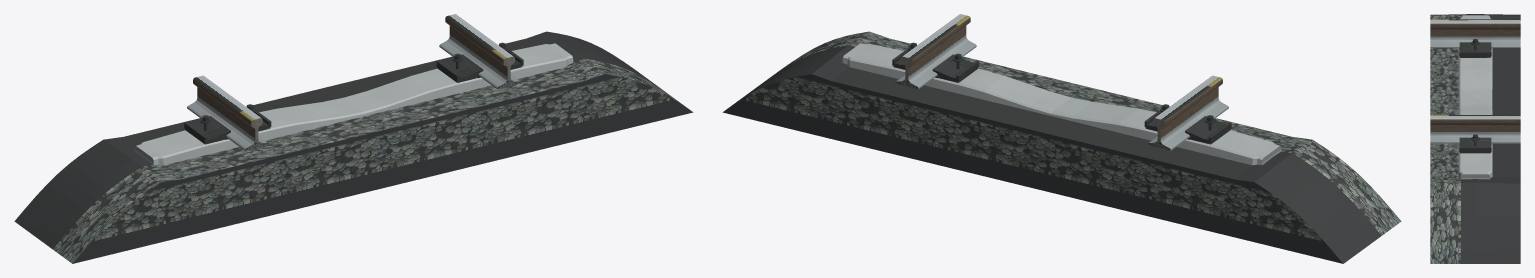
The model's file is rail_mid.obj.
3 renders of one model, left to right at view 1: azimuth 30°, elevation 25°; view 2: azimuth 150°, elevation 25°; view 3: azimuth 270°, elevation 25°, orthographic. The views are drawn at different scales.
Visible parts, largest first — view 1: ballast, sleeper, rail_left, rail_right, fastener_left, fastener_right; view 2: ballast, sleeper, rail_left, rail_right, fastener_left, fastener_right; view 3: ballast, sleeper, rail_left, rail_right, fastener_right, fastener_left.
Boxes of the visible parts, x1,y1,x2,y2 form: ballast: [14, 31, 693, 263]; sleeper: [134, 43, 573, 165]; rail_left: [187, 75, 266, 150]; rail_right: [439, 14, 519, 88]; fastener_left: [184, 104, 271, 144]; fastener_right: [436, 42, 523, 82]; ballast: [722, 31, 1401, 263]; sleeper: [842, 43, 1281, 165]; rail_left: [1149, 75, 1228, 150]; rail_right: [896, 14, 976, 88]; fastener_left: [1144, 104, 1231, 144]; fastener_right: [892, 42, 979, 82]; ballast: [1430, 14, 1520, 263]; sleeper: [1458, 15, 1492, 179]; rail_left: [1430, 19, 1520, 47]; rail_right: [1430, 115, 1520, 143]; fastener_right: [1459, 134, 1491, 153]; fastener_left: [1459, 38, 1491, 57].
Size of the model in its own units: 3.7 by 0.5683 by 0.6.
